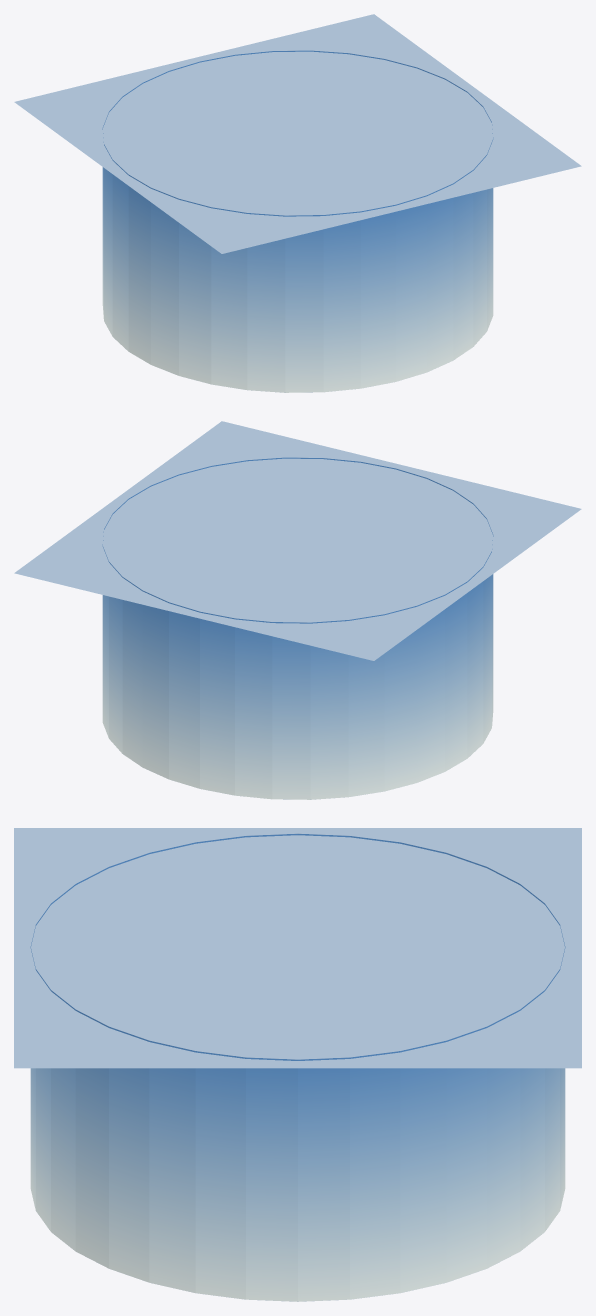
Rendered from collection-room.glb.
3 renders of one model, top to bottom at view 1: azimuth 30°, elevation 25°; view 2: azimuth 150°, elevation 25°; view 3: azimuth 270°, elevation 25°, orthographic. The views are drawn at different scales.
Parts seen in each view (by area): view 1: SF Evening sky; view 2: SF Evening sky; view 3: SF Evening sky.
Part boxes in pixels (<box>): SF Evening sky: <box>14,14,581,392</box>; SF Evening sky: <box>14,421,581,799</box>; SF Evening sky: <box>14,828,581,1301</box>.
Size of the model in its own units: 340 by 160 by 340.
Materials: 68 (20 with a texture image).
